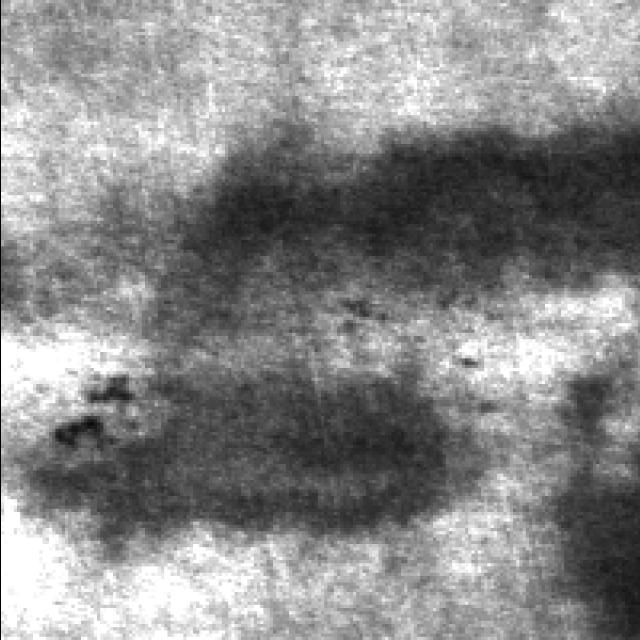patches: (142, 92, 640, 326), (19, 362, 483, 530), (534, 355, 640, 640)
